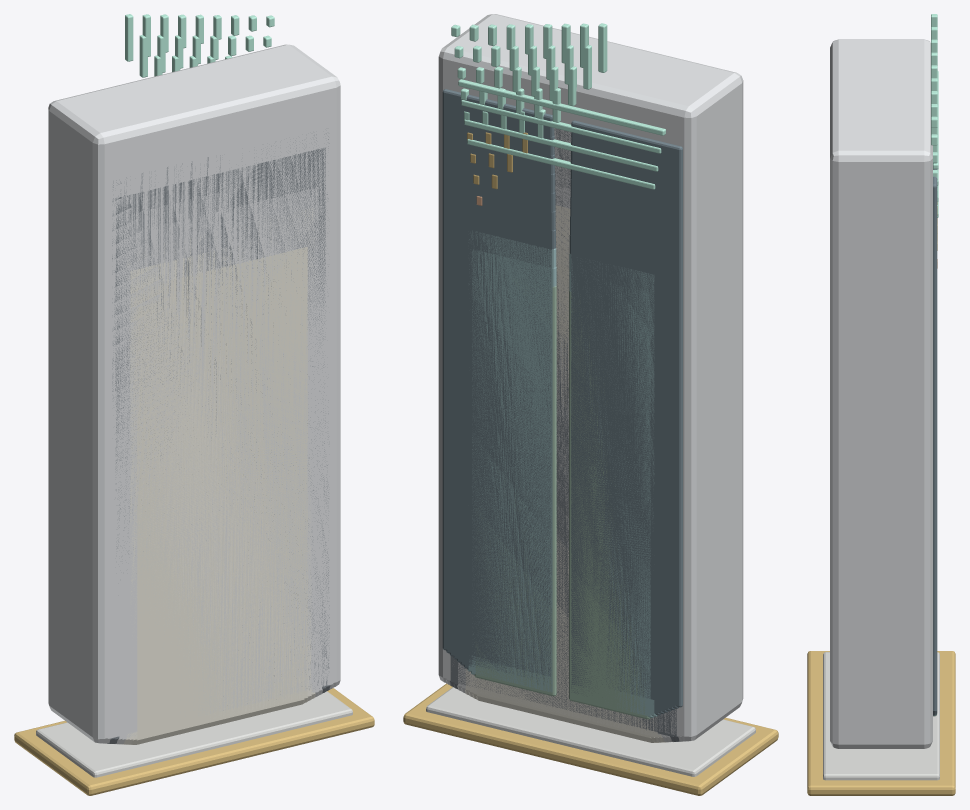
Rendered from Gear13.fbx.
3 renders of one model, left to right at view 1: azimuth 30°, elevation 25°; view 2: azimuth 150°, elevation 25°; view 3: azimuth 270°, elevation 25°, orthographic. The views are drawn at different scales.
Visible parts, largest first — view 1: Gear13_V10_Platinum, Gear13_V2_Ivory, Gear13_V3_Linen, Gear13_V9_Platinum, Gear13_V1_Ivory, Gear13_V7_Graphite, Gear13_V6_Platinum, Gear13_V5_Platinum, Gear13_V10_Gold, Gear13_V10_Chrome, Gear13_V9_Gold, Gear13_V5_Chrome (+7 smaller); view 2: Gear13_V10_Glass, Gear13_V10_Platinum, Gear13_V2_Blue, Gear13_V9_Glass, Gear13_V6_Glass, Gear13_V1_Sage, Gear13_V8_Glass, Gear13_V4_Glass, Gear13_V10_Gold, Gear13_V8_Graphite, Gear13_V8_Chrome, Gear13_V3_Linen (+14 smaller); view 3: Gear13_V10_Platinum, Gear13_V10_Gold, Gear13_V10_Chrome, Gear13_V10_Glass, Gear13_V9_Gold, Gear13_V7_Chrome, Gear13_V10_Glow, Gear13_V8_Chrome, Gear13_V4_Chrome.
Boxes of the visible parts, x1,y1,x2,y2 form: Gear13_V10_Platinum: (48, 44, 340, 743); Gear13_V2_Ivory: (129, 247, 308, 744); Gear13_V3_Linen: (126, 243, 311, 744); Gear13_V9_Platinum: (104, 108, 333, 743); Gear13_V1_Ivory: (133, 277, 304, 744); Gear13_V7_Graphite: (111, 147, 326, 743); Gear13_V6_Platinum: (114, 171, 322, 744); Gear13_V5_Platinum: (118, 187, 319, 744); Gear13_V10_Gold: (14, 688, 374, 795); Gear13_V10_Chrome: (36, 691, 352, 777); Gear13_V9_Gold: (21, 690, 368, 794); Gear13_V5_Chrome: (56, 710, 333, 772); Gear13_V10_Glass: (442, 89, 682, 707); Gear13_V10_Platinum: (438, 14, 743, 741); Gear13_V2_Blue: (471, 249, 653, 717); Gear13_V9_Glass: (446, 112, 678, 708); Gear13_V6_Glass: (457, 171, 668, 712); Gear13_V1_Sage: (474, 281, 650, 719); Gear13_V8_Glass: (450, 132, 675, 709); Gear13_V4_Glass: (464, 210, 661, 715); Gear13_V10_Gold: (403, 683, 778, 795); Gear13_V8_Graphite: (449, 128, 681, 741); Gear13_V8_Chrome: (435, 690, 743, 774); Gear13_V3_Linen: (468, 225, 663, 742); Gear13_V10_Platinum: (830, 39, 932, 748); Gear13_V10_Gold: (807, 651, 955, 795); Gear13_V10_Chrome: (823, 652, 939, 780); Gear13_V10_Glass: (933, 169, 937, 712); Gear13_V9_Gold: (807, 652, 955, 785); Gear13_V7_Chrome: (823, 657, 938, 770); Gear13_V10_Glow: (931, 14, 938, 169); Gear13_V8_Chrome: (823, 655, 939, 772); Gear13_V4_Chrome: (825, 662, 939, 765).
Size of the model in its own units: 114 by 269 by 52.
